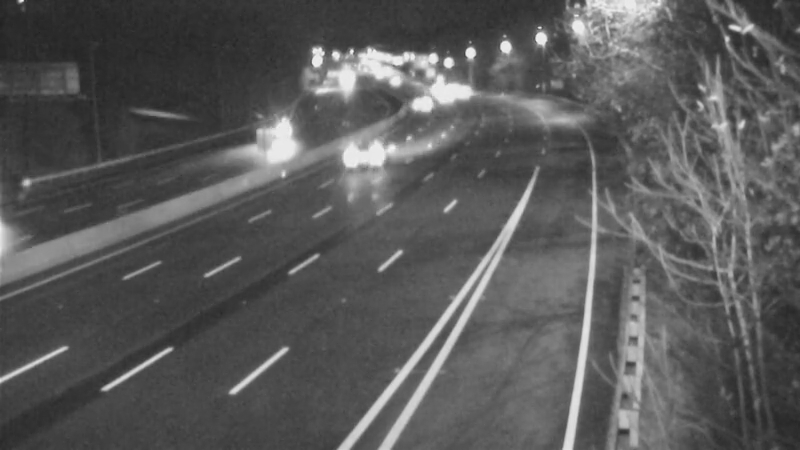vehicle: (323, 120, 403, 200), (420, 74, 470, 124), (398, 75, 448, 125), (260, 105, 310, 155)
